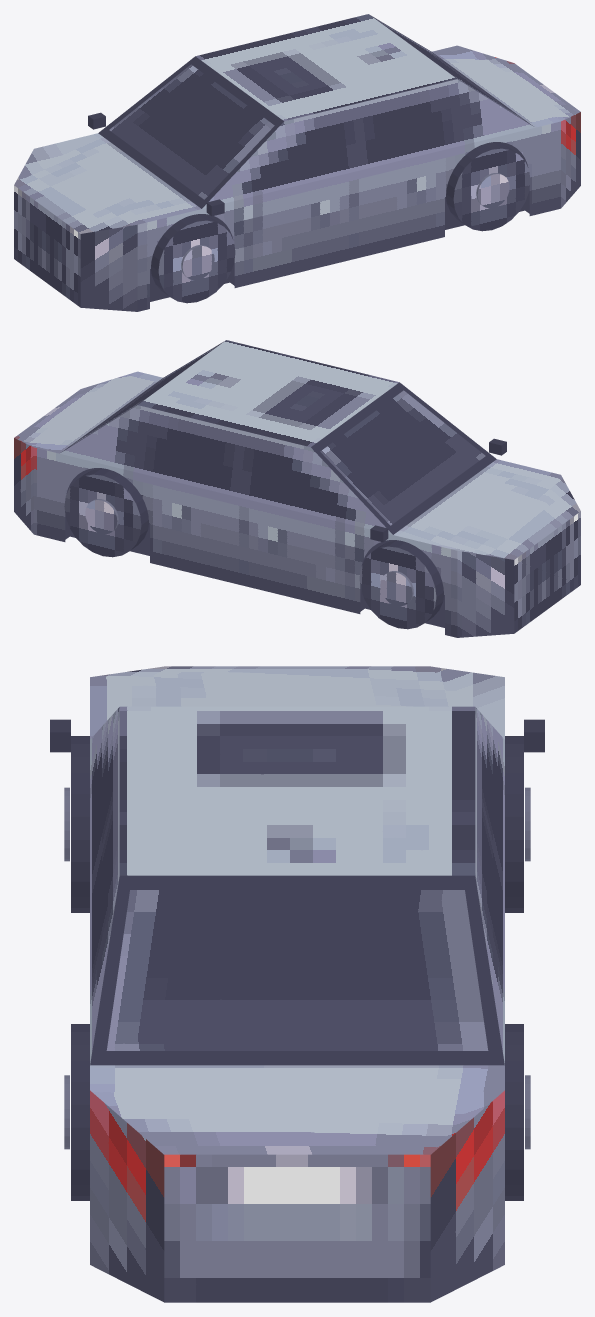
Rendered from car-7-v1.glb.
3 renders of one model, top to bottom at view 1: azimuth 30°, elevation 25°; view 2: azimuth 150°, elevation 25°; view 3: azimuth 270°, elevation 25°, orthographic. The views are drawn at different scales.
Parts seen in each view (by area): view 1: Passenger-body-west, Cabin-windows-west, Roof, Windshield-glass, Hood, Front-fascia, Tire_FL, Tire_RL, Trunk, Front-corner--1, Windshield-frame, Rear-corner--1 (+6 smaller); view 2: Passenger-body-east, Cabin-windows-east, Roof, Windshield-glass, Hood, Front-fascia, Tire_FR, Tire_RR, Trunk, Front-corner-1, Windshield-frame, Rear-corner-1 (+6 smaller); view 3: Roof, Rear-window-glass, Rear-fascia, Trunk, Hood, Rear-window-frame, Rear-corner-1, Rear-corner--1, Cabin-windows-east, Cabin-windows-west, Tire_FL, Tire_FR (+2 smaller).
Part boxes in pixels (box(x1,y1,x2,y2)): Passenger-body-west: box(137, 121, 560, 311); Cabin-windows-west: box(202, 79, 534, 208); Roof: box(195, 14, 456, 121); Windshield-glass: box(109, 64, 274, 199); Hood: box(14, 133, 200, 233); Front-fascia: box(14, 185, 80, 307); Tire_FL: box(151, 214, 235, 303); Tire_RL: box(446, 142, 530, 231); Trunk: box(432, 45, 580, 127); Front-corner--1: box(80, 224, 137, 311); Windshield-frame: box(98, 56, 283, 208); Rear-corner--1: box(561, 112, 580, 208); Passenger-body-east: box(34, 447, 457, 637); Cabin-windows-east: box(60, 405, 392, 534); Roof: box(138, 340, 399, 447); Windshield-glass: box(320, 390, 485, 525); Hood: box(394, 459, 580, 559); Front-fascia: box(514, 511, 580, 633); Tire_FR: box(359, 540, 443, 629); Tire_RR: box(64, 468, 148, 557); Trunk: box(14, 371, 162, 453); Front-corner-1: box(457, 550, 514, 637); Windshield-frame: box(311, 382, 496, 534); Rear-corner-1: box(14, 438, 33, 534); Roof: box(119, 706, 475, 875); Rear-window-glass: box(106, 890, 488, 1050); Rear-fascia: box(164, 1154, 430, 1302); Trunk: box(90, 1065, 504, 1154); Hood: box(90, 666, 504, 739); Rear-window-frame: box(90, 875, 504, 1065); Rear-corner-1: box(430, 1090, 504, 1302); Rear-corner--1: box(90, 1090, 164, 1302); Cabin-windows-east: box(475, 707, 504, 1064); Cabin-windows-west: box(90, 707, 119, 1064); Tire_FL: box(71, 736, 89, 912); Tire_FR: box(505, 736, 523, 912).
Bounding box in the file's own units: 78 × 22 × 33.4.
Materials: 1 (1 with a texture image).
